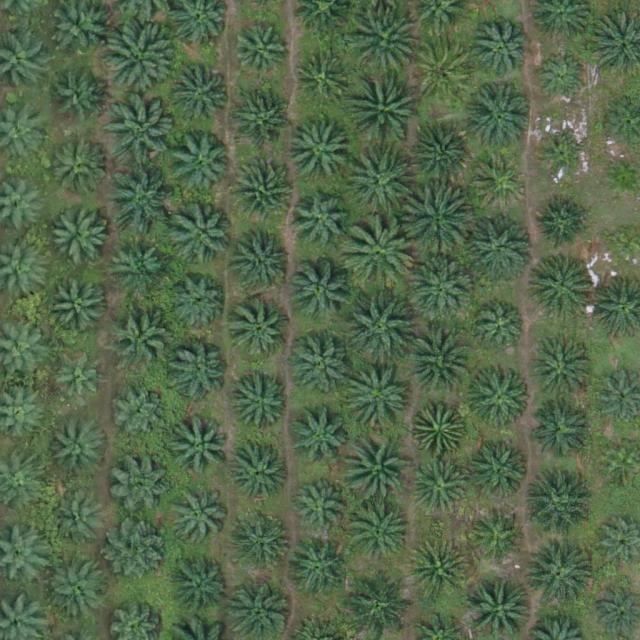Healthy: (345, 292, 416, 363), (346, 568, 417, 638), (346, 365, 417, 435), (344, 219, 414, 290), (343, 148, 413, 219), (409, 253, 479, 324), (465, 212, 535, 283), (522, 469, 592, 540), (522, 540, 592, 611), (464, 81, 534, 152), (350, 70, 420, 141), (349, 6, 419, 77), (108, 95, 178, 166), (104, 165, 174, 235), (346, 499, 416, 569), (342, 430, 412, 500), (401, 187, 471, 257), (404, 325, 474, 395), (104, 23, 174, 93), (47, 277, 110, 340), (109, 453, 172, 516), (172, 415, 235, 478), (170, 555, 233, 618), (230, 159, 293, 222), (287, 122, 350, 185), (407, 539, 470, 602), (469, 441, 532, 504), (532, 341, 595, 404), (167, 63, 230, 126), (47, 558, 109, 621), (49, 203, 111, 266), (46, 134, 108, 197), (108, 235, 170, 298), (110, 304, 172, 367), (108, 518, 170, 581), (169, 131, 231, 194), (172, 205, 234, 268), (168, 487, 230, 550), (229, 442, 291, 505), (230, 371, 293, 433), (230, 299, 292, 362), (291, 191, 353, 254), (290, 259, 352, 322), (289, 333, 352, 395), (287, 407, 349, 470), (289, 539, 351, 602), (469, 364, 531, 427), (530, 255, 593, 317), (531, 398, 593, 461), (470, 18, 532, 81), (232, 89, 294, 152), (166, 341, 228, 403), (234, 511, 296, 573), (235, 228, 297, 290), (410, 125, 472, 187), (413, 41, 475, 103), (49, 351, 104, 407), (473, 155, 528, 210), (53, 418, 108, 473), (113, 387, 168, 442), (414, 458, 469, 513), (473, 504, 528, 559), (535, 195, 590, 250), (534, 52, 589, 107), (294, 51, 349, 106), (233, 27, 288, 82), (51, 69, 106, 124), (50, 494, 104, 549), (172, 275, 226, 330), (293, 478, 347, 533), (413, 400, 467, 455), (476, 301, 530, 356)
Small: (542, 136, 589, 183)
